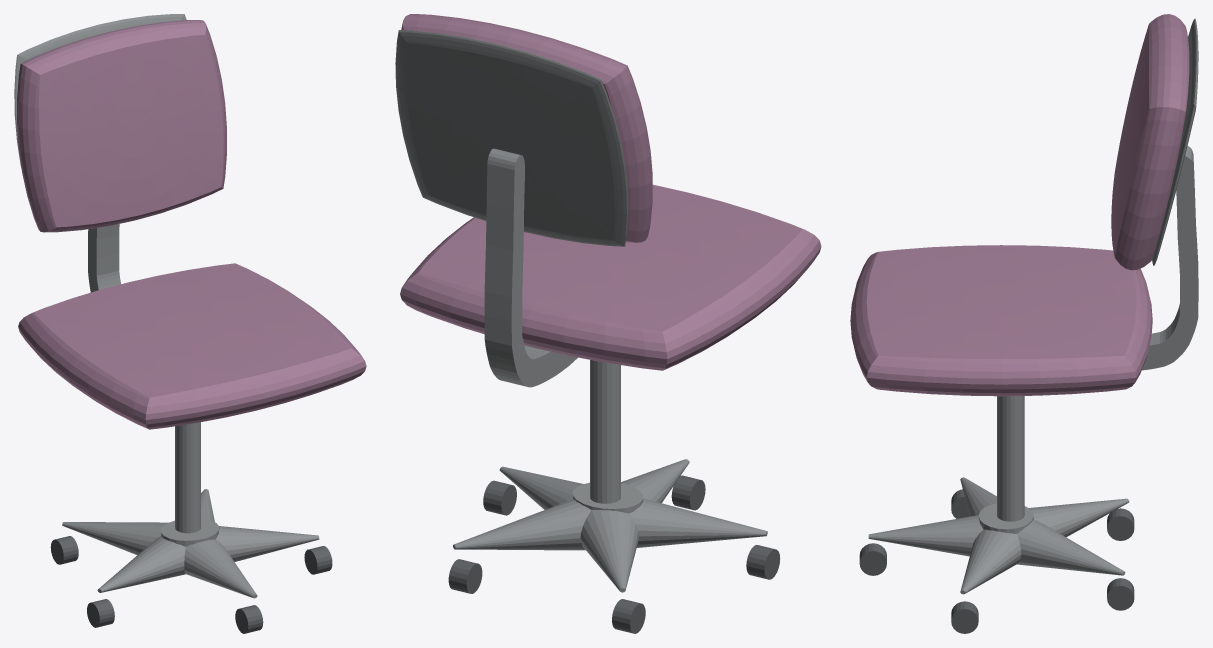
The model's file is silla_oficina.glb.
3 renders of one model, left to right at view 1: azimuth 30°, elevation 25°; view 2: azimuth 150°, elevation 25°; view 3: azimuth 270°, elevation 25°, orthographic. The views are drawn at different scales.
Parts seen in each view (by area): view 1: Mesh_Mesh_head_geo.001_lambert2SG.001; view 2: Mesh_Mesh_head_geo.001_lambert2SG.001; view 3: Mesh_Mesh_head_geo.001_lambert2SG.001.
Boxes of the visible parts, left/top/right/bottom form: Mesh_Mesh_head_geo.001_lambert2SG.001: left=14, top=14, right=366, bottom=633; Mesh_Mesh_head_geo.001_lambert2SG.001: left=395, top=14, right=821, bottom=633; Mesh_Mesh_head_geo.001_lambert2SG.001: left=850, top=14, right=1198, bottom=633.
Size of the model in its own units: 33 by 63 by 38.
